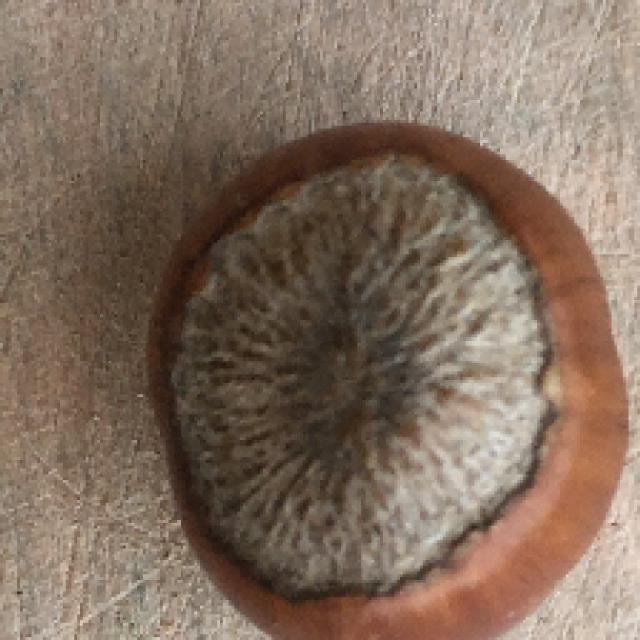damagedHazelnut: (131, 105, 639, 640)
